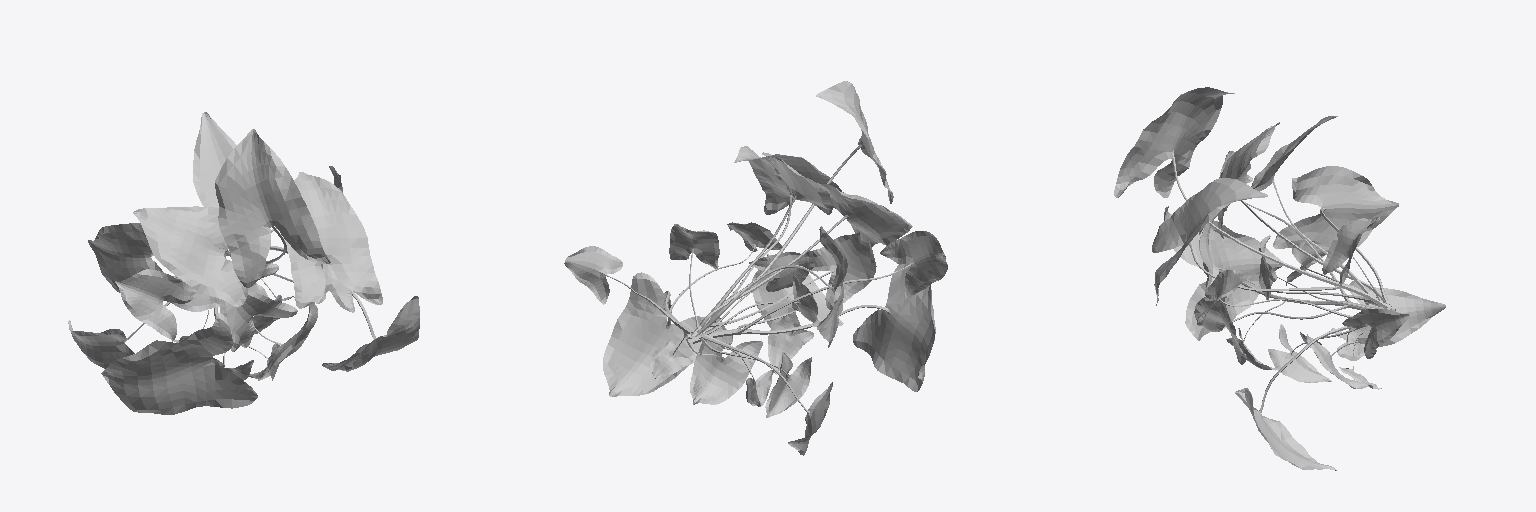
Rendered from plant_leaves.obj.
3 views of the same model, side by side, from view 1: azimuth 30°, elevation 25°; view 2: azimuth 150°, elevation 25°; view 3: azimuth 270°, elevation 25° (orthographic).
Visible parts, largest first — view 1: potted_plant_02_leaves; view 2: potted_plant_02_leaves; view 3: potted_plant_02_leaves.
Boxes of the visible parts, x1=… form: potted_plant_02_leaves: x1=68, y1=112, x2=419, y2=414; potted_plant_02_leaves: x1=564, y1=81, x2=947, y2=455; potted_plant_02_leaves: x1=1114, y1=87, x2=1445, y2=470.
Size of the model in its own units: 0.7012 by 0.6432 by 0.6326.